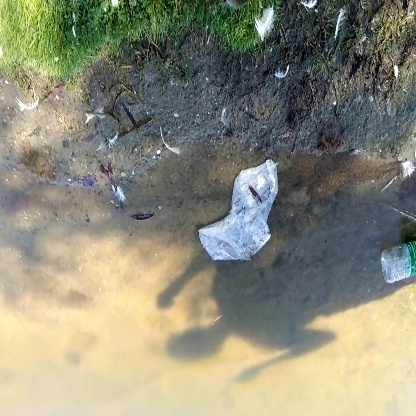plastic-bag: (198, 160, 279, 274)
